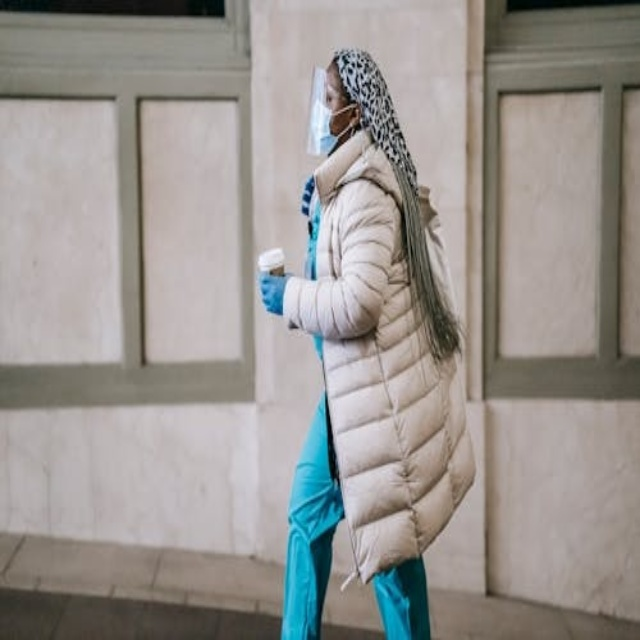Guantes: (260, 272, 289, 316), (300, 175, 315, 217)
Mascara: (303, 98, 348, 156)
